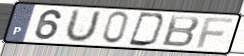0: (101, 10, 131, 46)
6: (33, 8, 63, 41)
B: (160, 14, 202, 49)
D: (127, 11, 168, 48)
F: (195, 16, 235, 50)
U: (62, 8, 104, 44)
